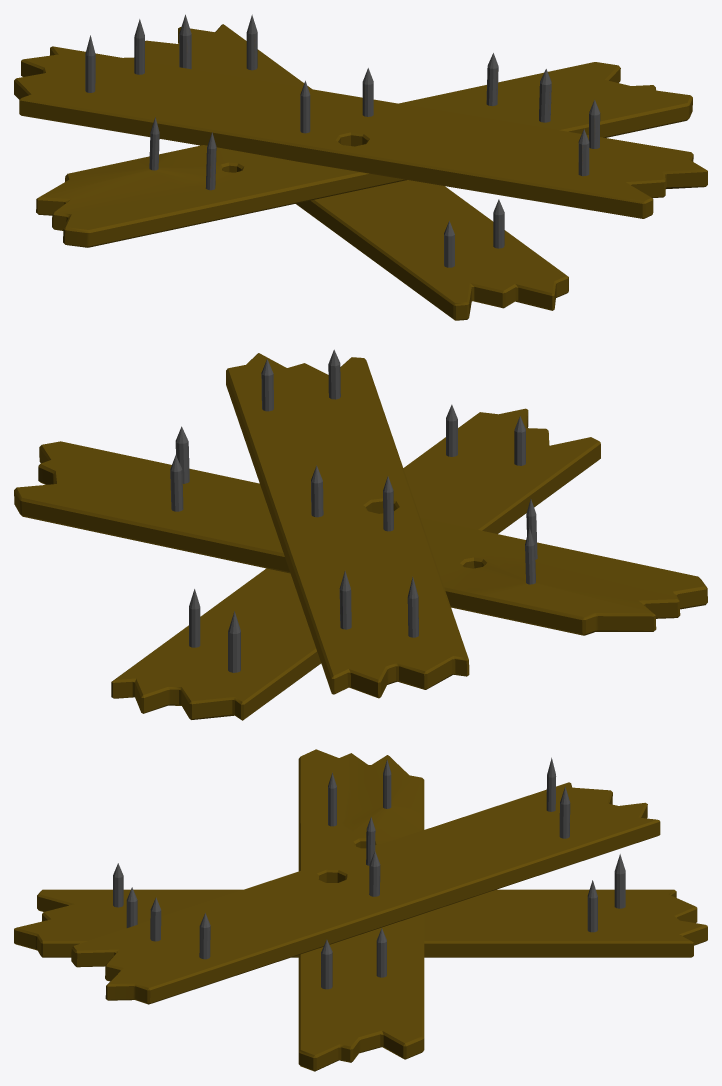
The model's file is MaderaClavos.fbx.
3 renders of one model, top to bottom at view 1: azimuth 30°, elevation 25°; view 2: azimuth 150°, elevation 25°; view 3: azimuth 270°, elevation 25°, orthographic. The views are drawn at different scales.
Visible parts, largest first — view 1: MaderaClavos; view 2: MaderaClavos; view 3: MaderaClavos.
Part boxes in pixels (<box>): MaderaClavos: <box>14,14,707,320</box>; MaderaClavos: <box>14,349,707,720</box>; MaderaClavos: <box>14,749,707,1071</box>.
Bounding box in the file's own units: 21.83 × 3.71 × 22.16.
Materials: 1 (1 with a texture image).
